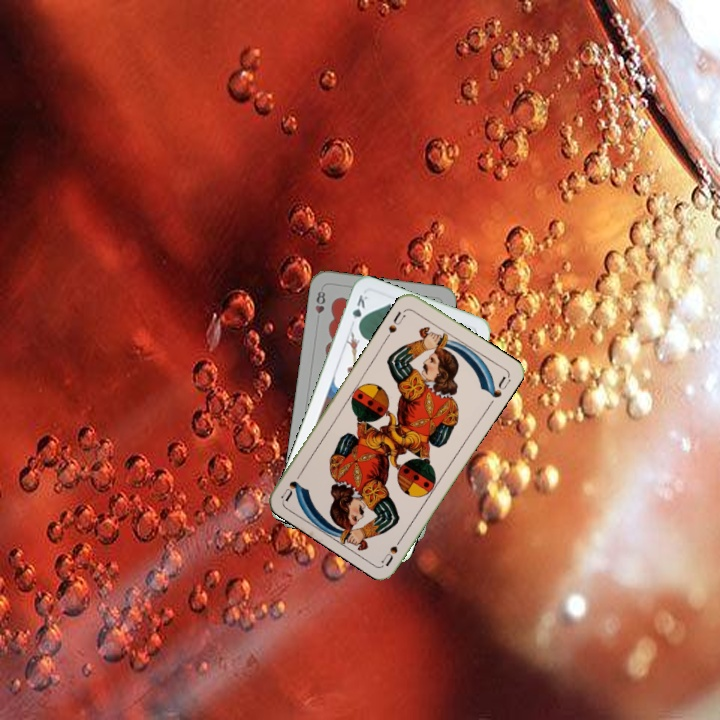GK: (348, 290, 370, 330)
H8: (311, 287, 328, 316)
SU: (378, 530, 407, 568), (382, 305, 410, 341)
